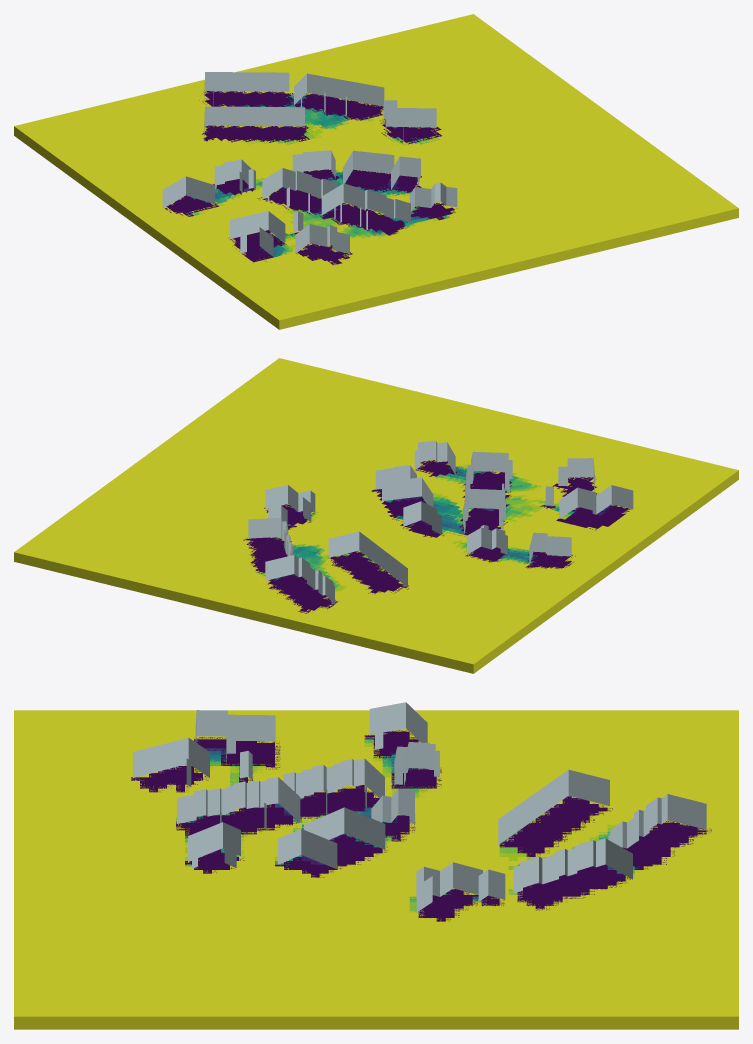
3 renders of one model, top to bottom at view 1: azimuth 30°, elevation 25°; view 2: azimuth 150°, elevation 25°; view 3: azimuth 270°, elevation 25°, orthographic. The views are drawn at different scales.
Parts seen in each view (by area): view 1: Renderer Node; view 2: Renderer Node; view 3: Renderer Node.
Boxes of the visible parts, bbox=[...] form: Renderer Node: bbox=[14, 14, 738, 329]; Renderer Node: bbox=[14, 358, 738, 673]; Renderer Node: bbox=[14, 702, 738, 1029].
Bounding box in the file's own units: 202 × 12 × 202.
2 materials, 1 textured.
